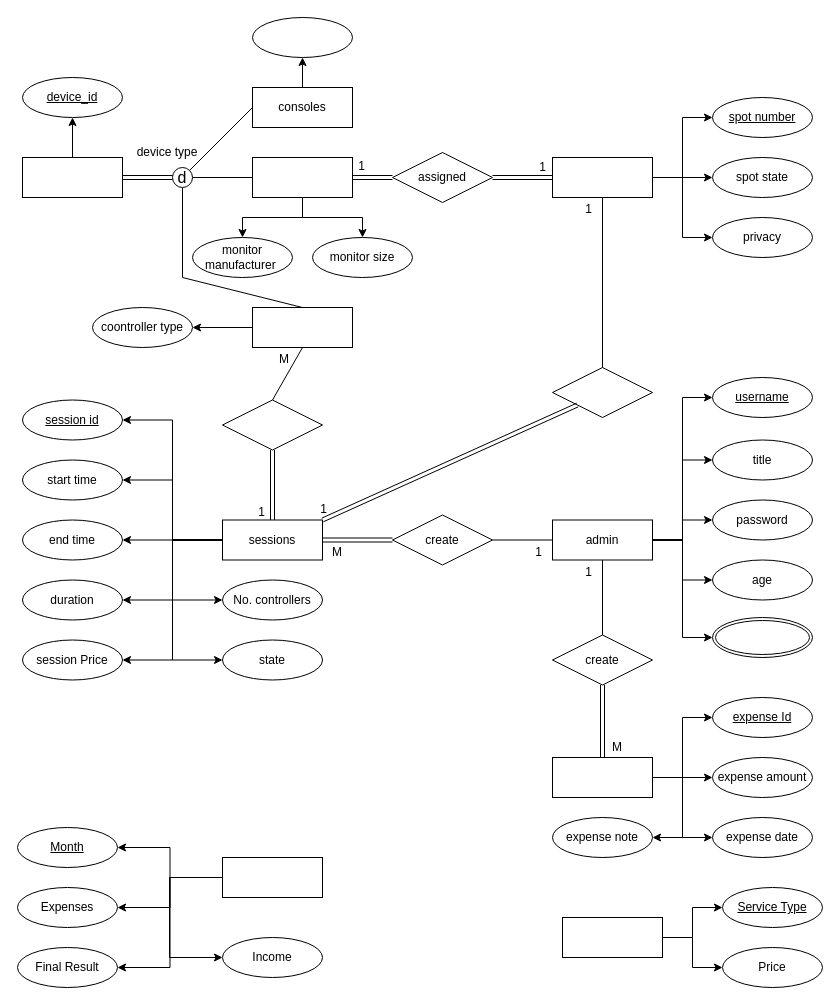
The diagram is 840 pixels wide and 1005 high, and some of its shapes have lost their labels. The box of each missing label's shape, as (x1, y1, x2, y2) in pixels:
console type: (252, 16, 352, 58)
controllers: (252, 306, 352, 348)
devices: (22, 156, 122, 198)
Expense: (552, 756, 652, 798)
monitors: (252, 156, 352, 198)
phone number: (712, 616, 812, 658)
play with: (222, 399, 322, 450)
Prices: (562, 916, 662, 958)
Result: (222, 856, 322, 898)
spots: (552, 156, 652, 198)
use: (552, 366, 652, 418)
